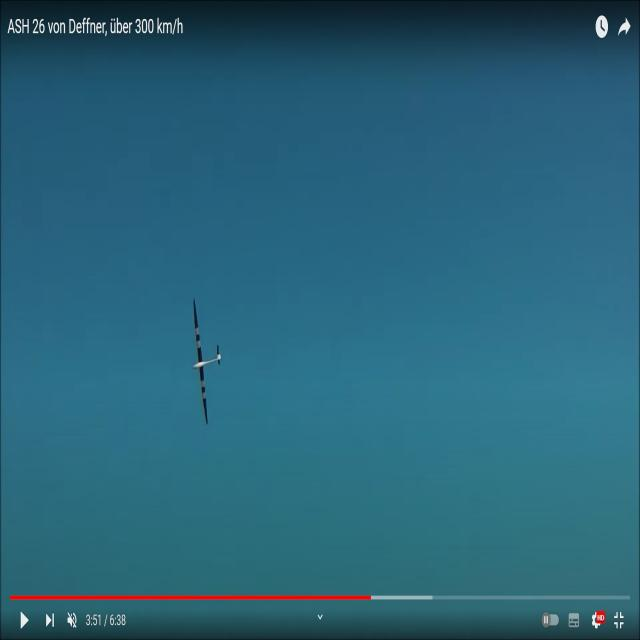iha: (191, 335, 222, 396)
